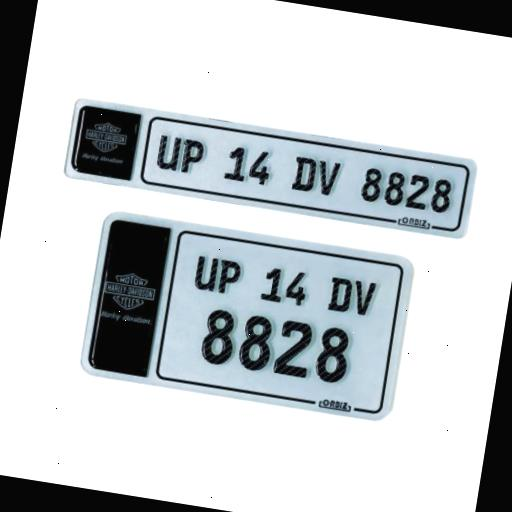number plate: (84, 215, 413, 418), (65, 100, 478, 239)
